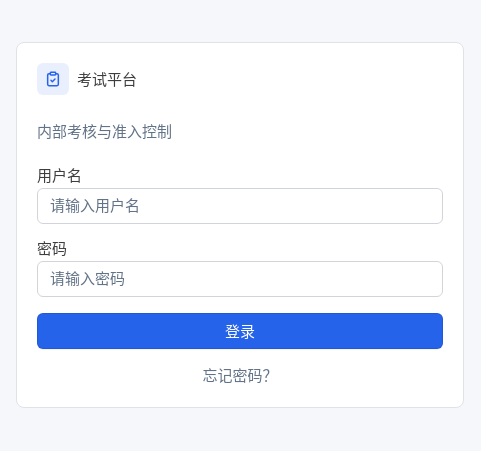
Test case: LoginPage smoke › clears field error when user types after validation failure
Click the button "登录" at (240, 331), box [37, 313, 443, 349]
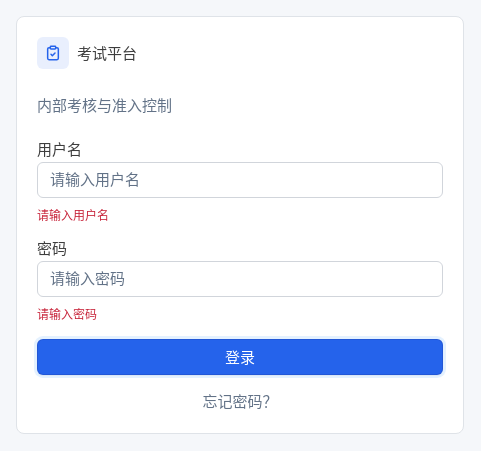
Now the text "请输入用户名" is shown, box [37, 209, 109, 223]
Now the text "请输入密码" is shown, box [37, 308, 97, 322]
Type "admin" into the field labelled "用户名" at (240, 180), box [37, 162, 443, 198]
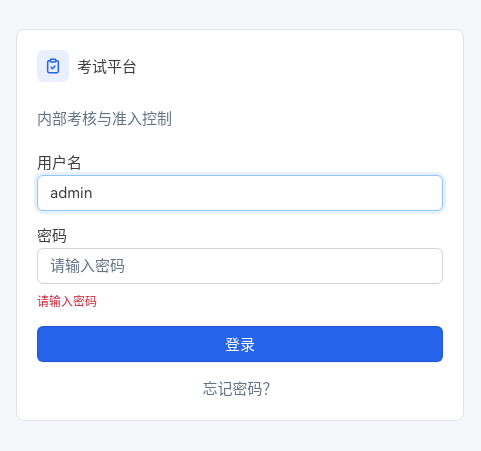
Now the text "请输入用户名" is gone
Type "pass" into the password field labelled "密码" at (240, 266), box [37, 248, 443, 284]
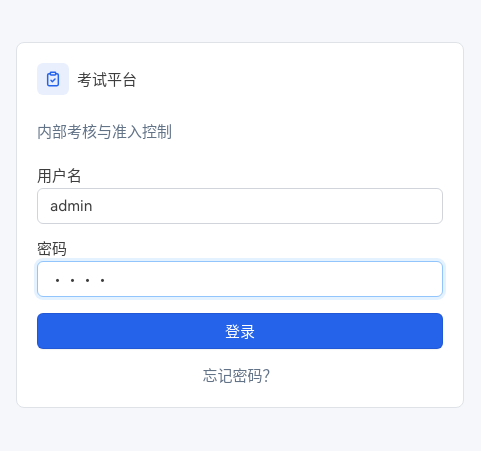
Now the text "请输入密码" is gone
